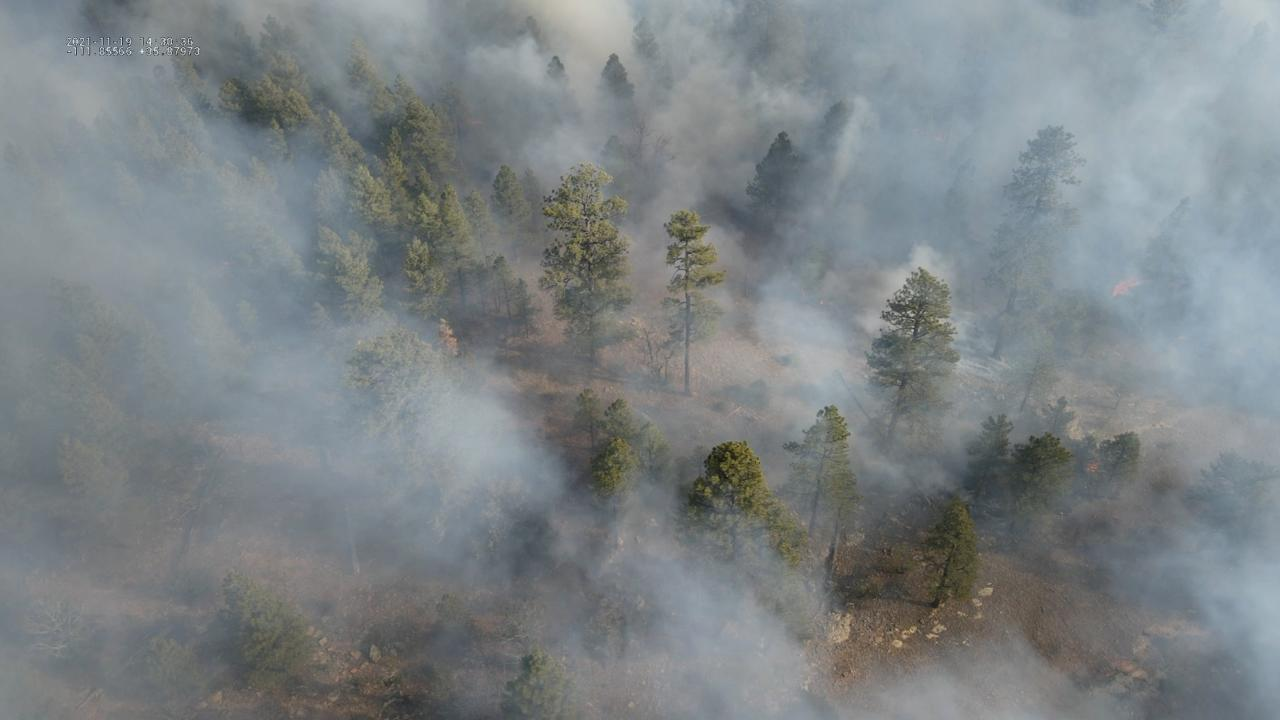fire: (1110, 275, 1144, 297), (1085, 461, 1100, 474)
smoke: (0, 0, 1280, 720)
